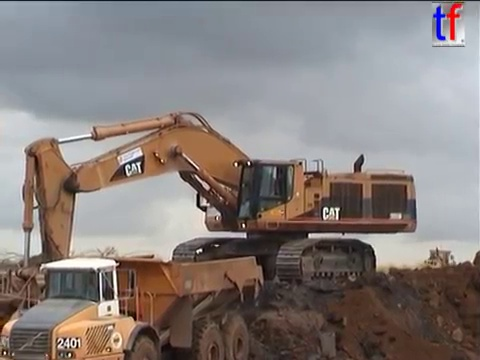excavator: (1, 107, 421, 317)
motor grader: (421, 245, 457, 274)
truck: (1, 251, 266, 360)
